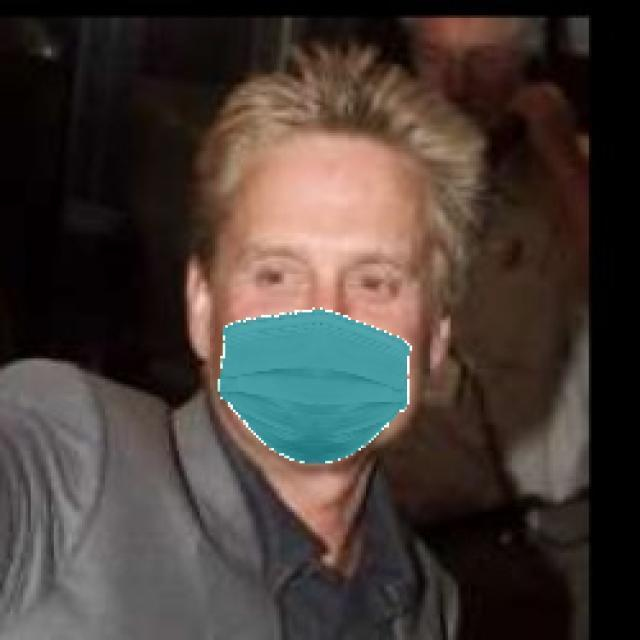surgical: (210, 157, 439, 466)
